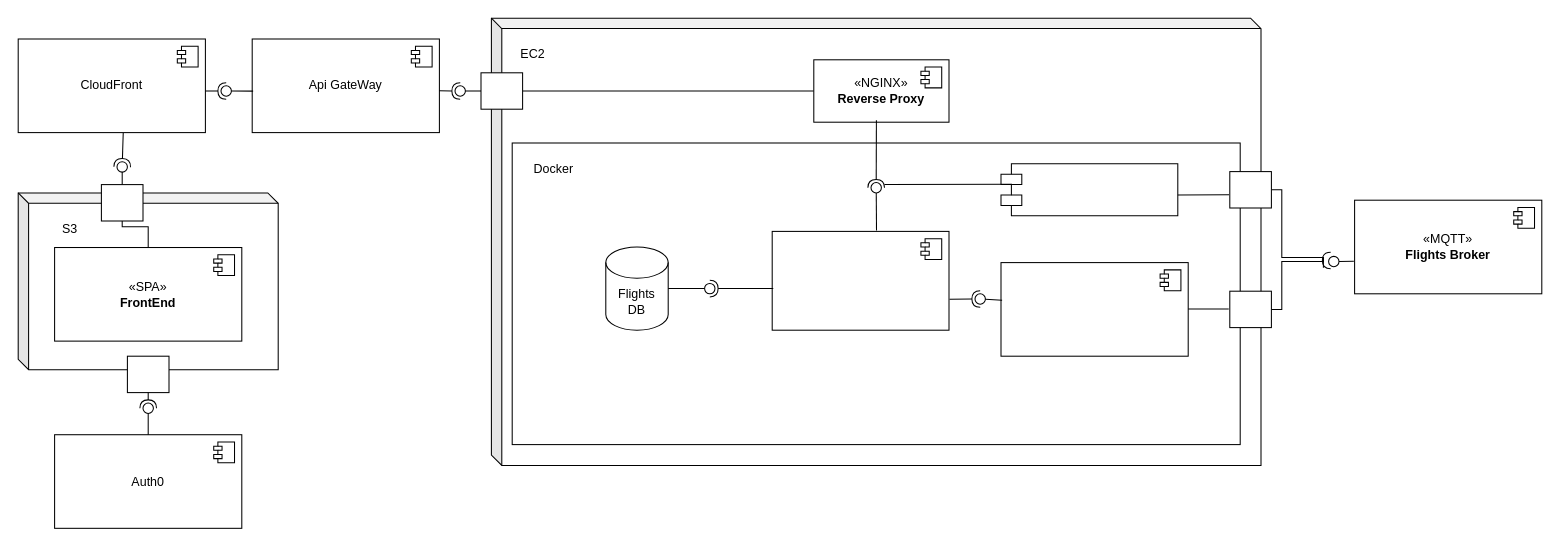
Image size: 1560x547. Some labels were removed from this diagram. Each missing label, with the centre of its shape:
"MQTT SUBSCRIBER" goes at (x=1089, y=189).
"«MQTT» MQTT Publisher" goes at (x=1094, y=309).
"«REST» Flights API" goes at (x=860, y=280).
